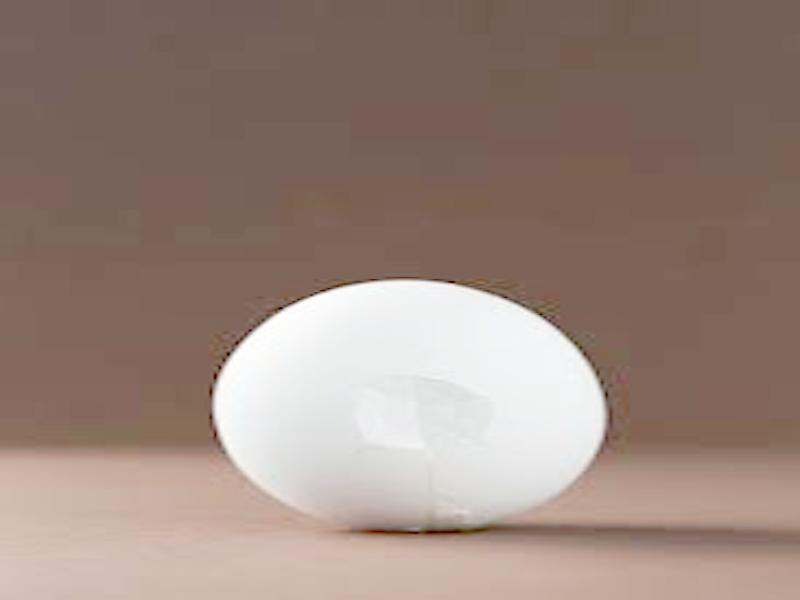Eggs: (214, 279, 599, 532)
